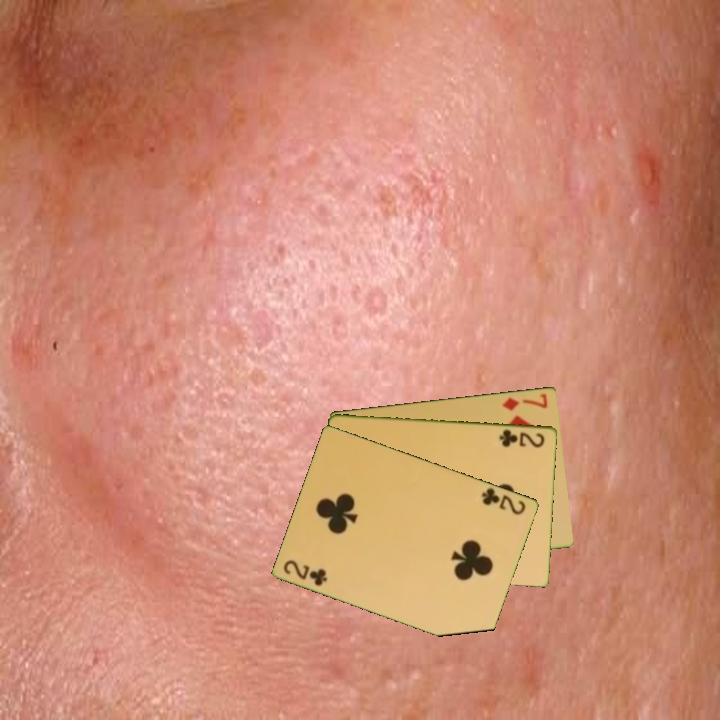2c: (478, 484, 529, 517), (280, 556, 331, 589), (496, 425, 548, 450)
7d: (499, 390, 551, 413)
